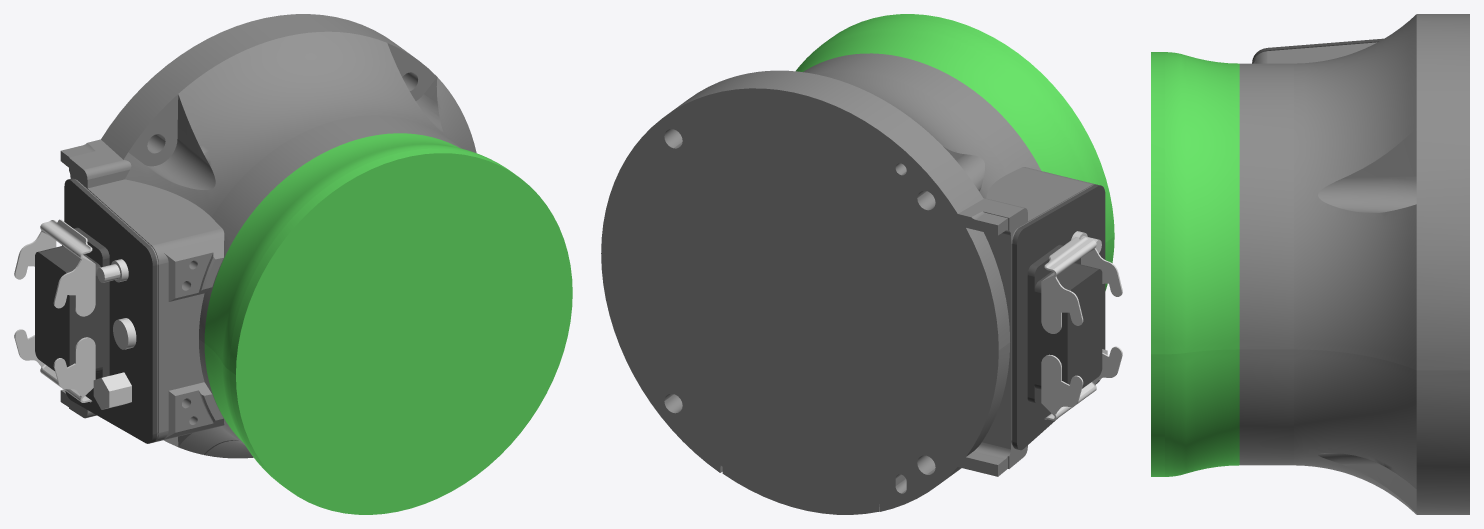
3 views of the same model, side by side, from view 1: azimuth 30°, elevation 25°; view 2: azimuth 150°, elevation 25°; view 3: azimuth 270°, elevation 25° (orthographic). The views are drawn at different scales.
Visible parts, largest first — view 1: Mesh_0.017; view 2: Mesh_0.017; view 3: Mesh_0.017.
Part boxes in pixels (box(x1,y1,x2,y2)): Mesh_0.017: box(14, 14, 572, 514); Mesh_0.017: box(601, 14, 1122, 514); Mesh_0.017: box(1151, 14, 1469, 514).
Size of the model in its own units: 0.329 by 0.283 by 0.18.
